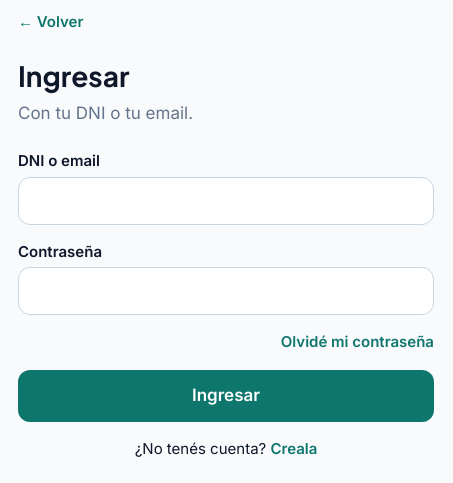
Test: Ingreso (CU-03) › con datos correctos vuelve al inicio con la sesión iniciada
This screenshot has width=453, height=483.
Type "30123456" into the field labelled "DNI o email" at (226, 200), box [18,176,434,224]
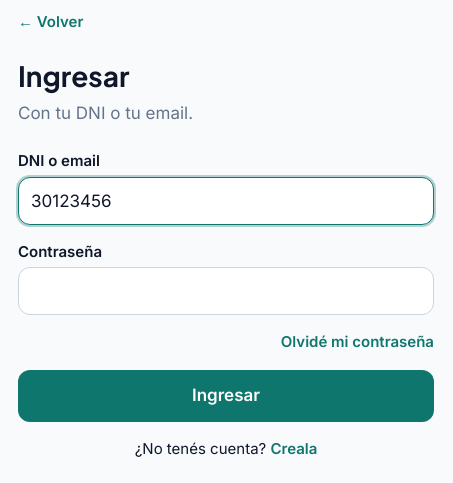
Type "una-clave-segura" into the password field labelled "Contraseña" at (226, 291), box [18,267,434,315]
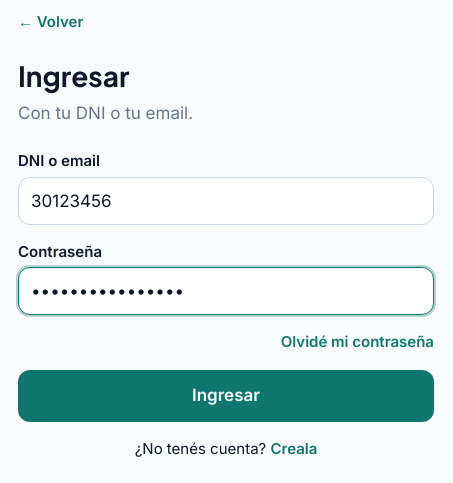
Click the button "Ingresar" at (226, 396), box [18,370,434,422]
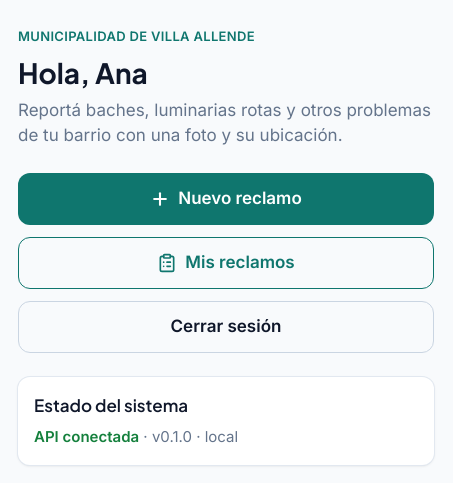
Expected: the heading "Hola, Ana" is shown, [18,54,148,90]
